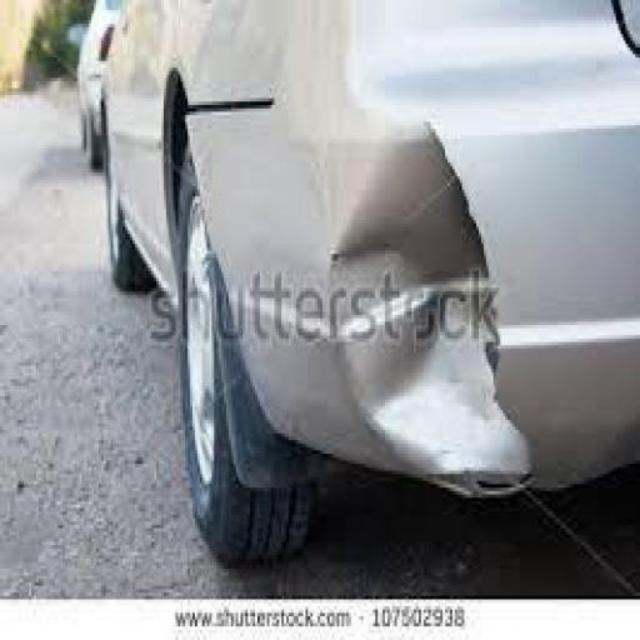crack: (319, 110, 547, 502)
